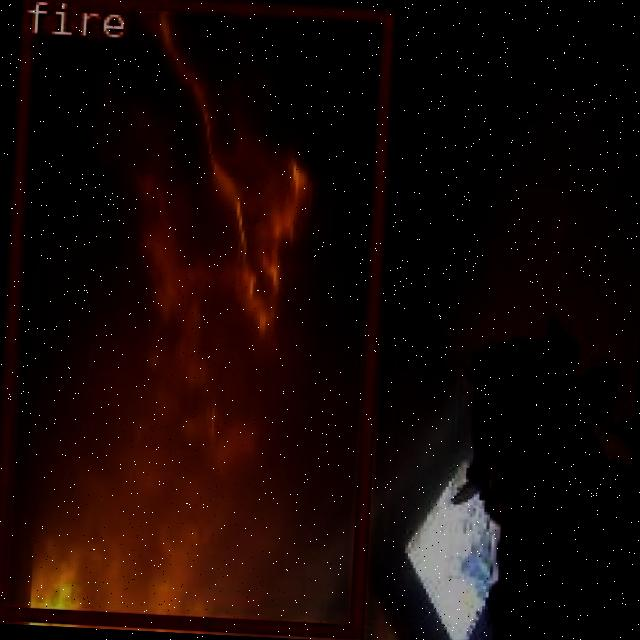fire: (0, 0, 391, 634)
